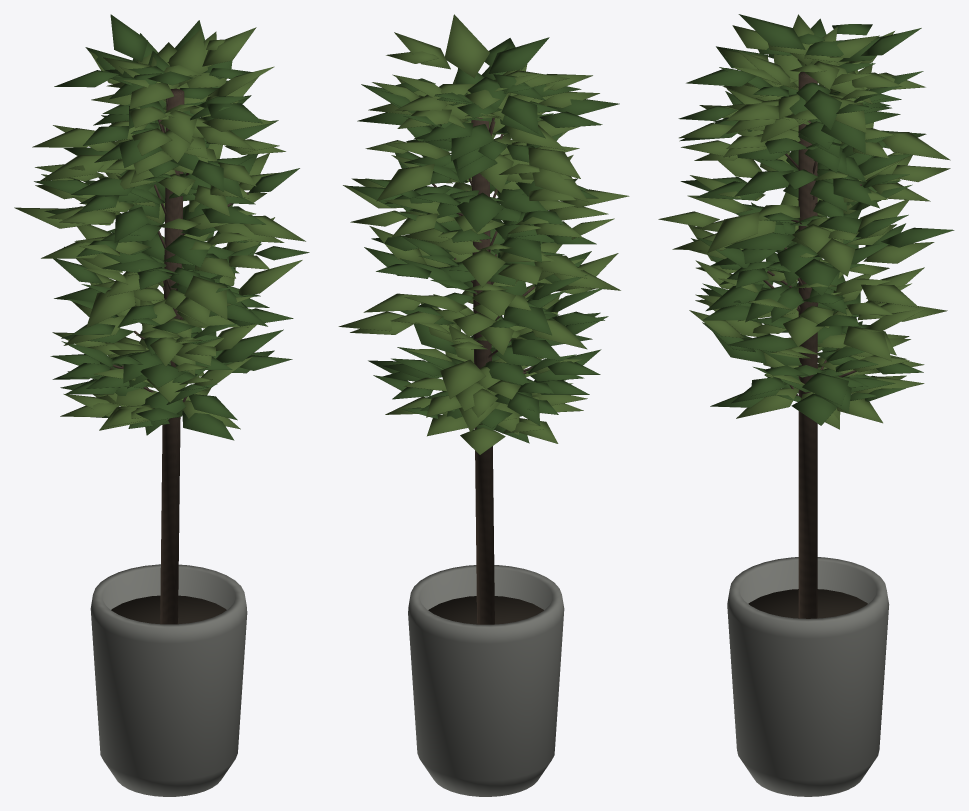
Rendered from PLT_Ficus.fbx.
3 renders of one model, left to right at view 1: azimuth 30°, elevation 25°; view 2: azimuth 150°, elevation 25°; view 3: azimuth 270°, elevation 25°, orthographic. The views are drawn at different scales.
Parts seen in each view (by area): view 1: PLT_Ficus_Export; view 2: PLT_Ficus_Export; view 3: PLT_Ficus_Export.
Part boxes in pixels (x1=…): PLT_Ficus_Export: x1=14, y1=14, x2=309, y2=796; PLT_Ficus_Export: x1=338, y1=14, x2=629, y2=796; PLT_Ficus_Export: x1=658, y1=14, x2=954, y2=796.
Bounding box in the file's own units: 0.6016 × 1.63 × 0.5859.
Materials: 5 (1 with a texture image).
